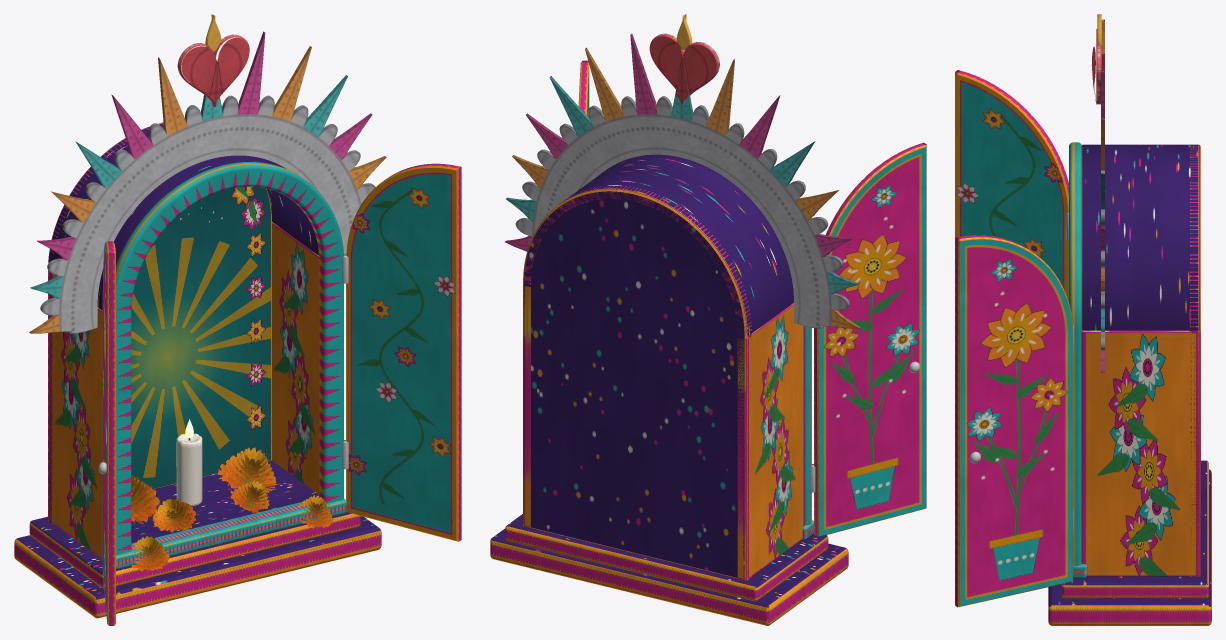
Rendered from shrine_nicho_hero.glb.
3 renders of one model, left to right at view 1: azimuth 30°, elevation 25°; view 2: azimuth 150°, elevation 25°; view 3: azimuth 270°, elevation 25°, orthographic. The views are drawn at different scales.
Visible parts, largest first — view 1: shrine_nicho_hero; view 2: shrine_nicho_hero; view 3: shrine_nicho_hero.
Part boxes in pixels (<box>): shrine_nicho_hero: <box>14,14,461,625</box>; shrine_nicho_hero: <box>490,14,926,625</box>; shrine_nicho_hero: <box>955,14,1211,625</box>.
Bounding box in the file's own units: 0.3794 × 0.55 × 0.2352.
Materials: 6 (3 with a texture image).
